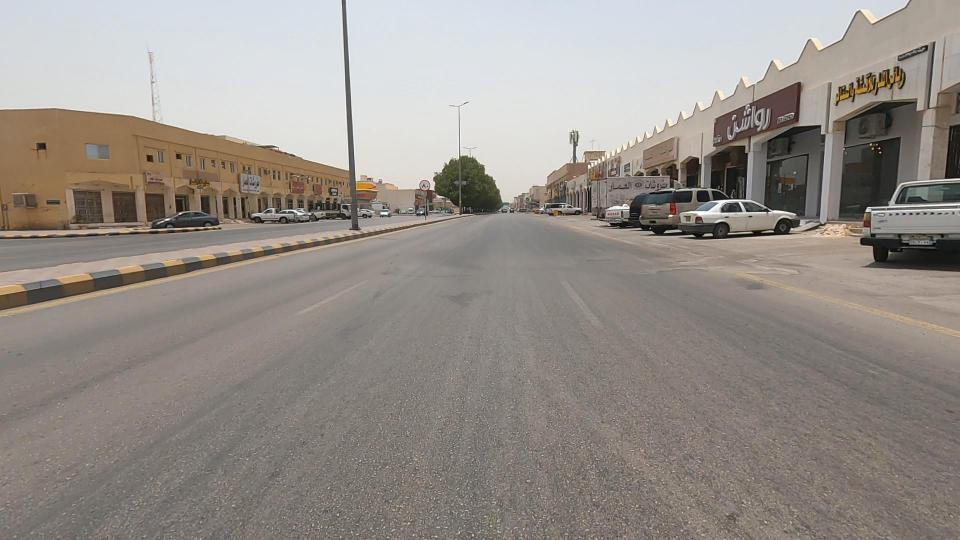BAD_BILLBOARD: (616, 115, 700, 194), (123, 154, 184, 204)
